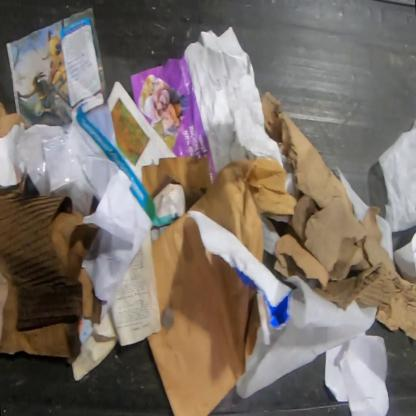cardboard: (262, 90, 396, 311), (146, 211, 261, 415), (0, 191, 102, 365), (188, 157, 300, 263), (141, 156, 211, 212), (375, 272, 416, 342), (0, 101, 31, 141), (0, 171, 31, 196)
soft_plastic: (23, 124, 85, 215)
